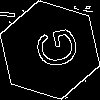G: (25, 25, 80, 73)
